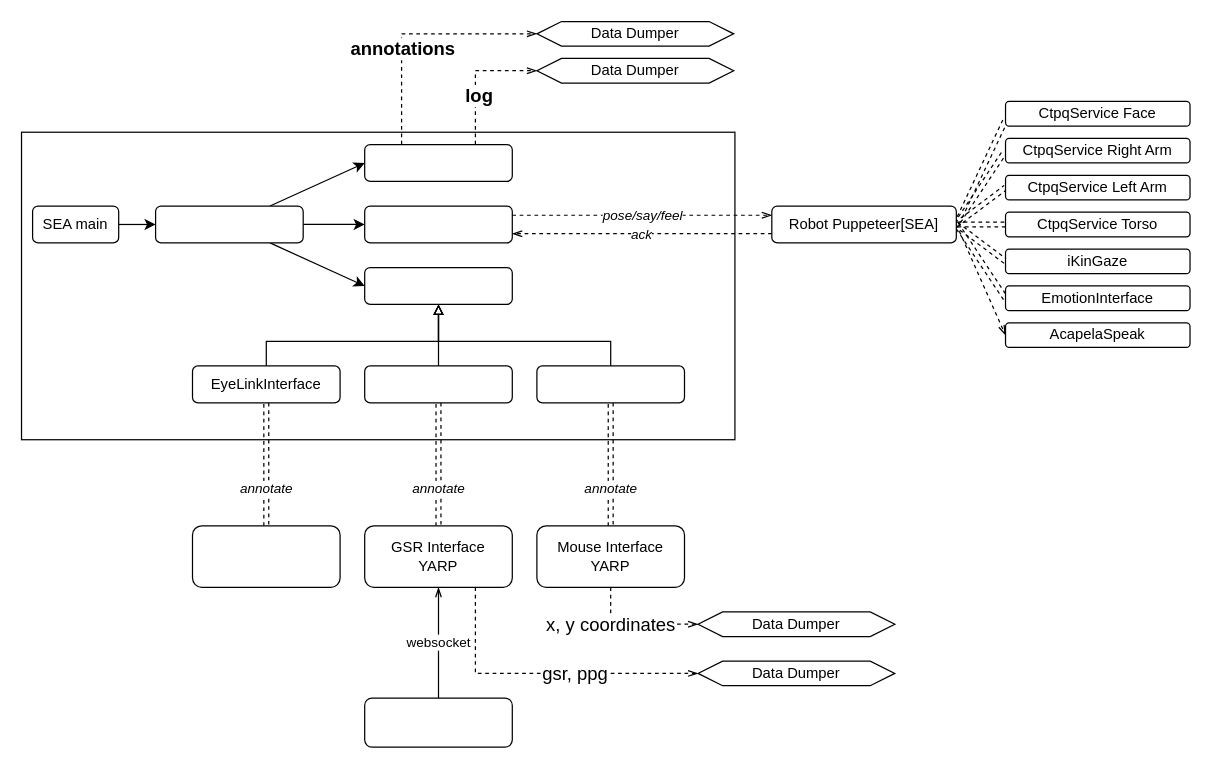
The diagram is 1212 pixels wide and 769 high, and some of its shapes have lost their labels. Each missing label, with the box of its shape:
Device Interface: (363, 266, 512, 304)
Experimental Utils: (154, 205, 303, 243)
EyeLink Interface YARP: (191, 525, 340, 587)
GSR Interface: (363, 365, 512, 403)
Mouse Interface: (536, 365, 684, 403)
Robot Interface: (363, 205, 512, 243)
Shimmer Capture: (363, 697, 512, 747)
YARP Interface: (363, 143, 512, 181)
